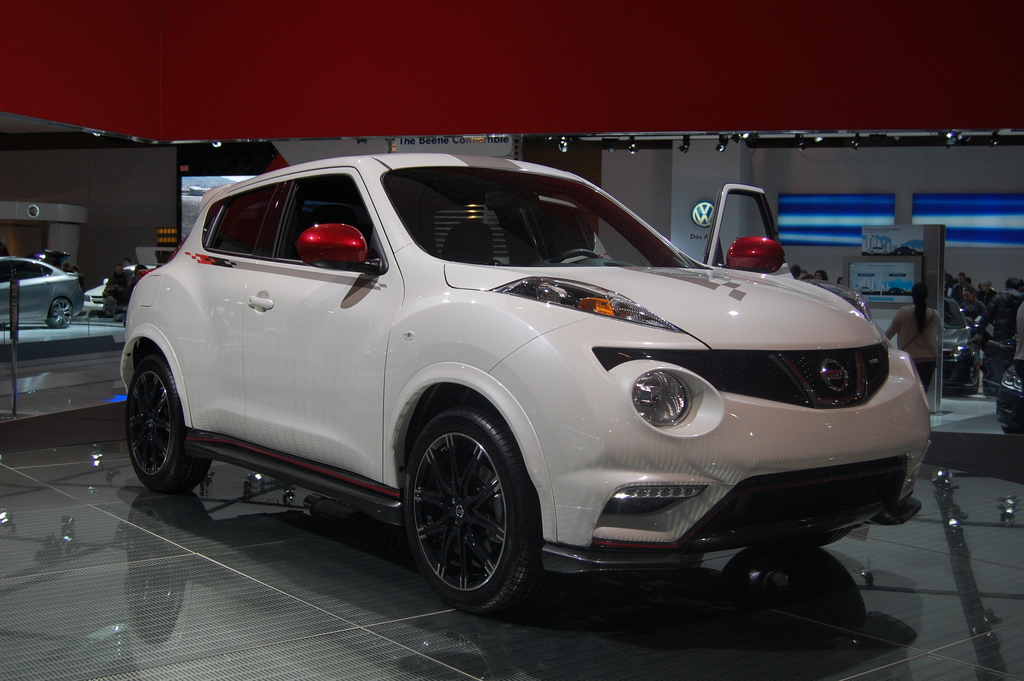Car: (114, 148, 935, 621), (0, 249, 76, 322), (81, 263, 158, 318), (980, 335, 1023, 433), (0, 241, 83, 284), (936, 299, 976, 385), (83, 272, 128, 313), (894, 246, 917, 255), (868, 245, 888, 254), (887, 287, 904, 294), (857, 285, 873, 292)
